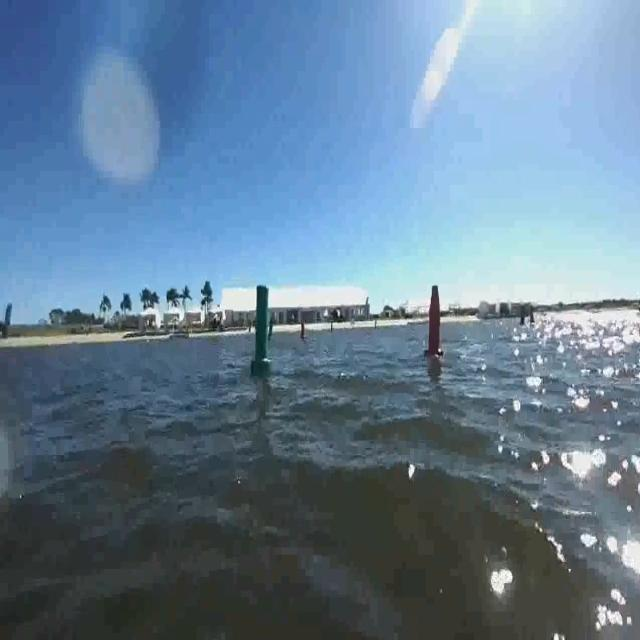green-column-buoy: (253, 283, 275, 372)
red-column-buoy: (423, 282, 444, 358), (298, 317, 306, 339)
